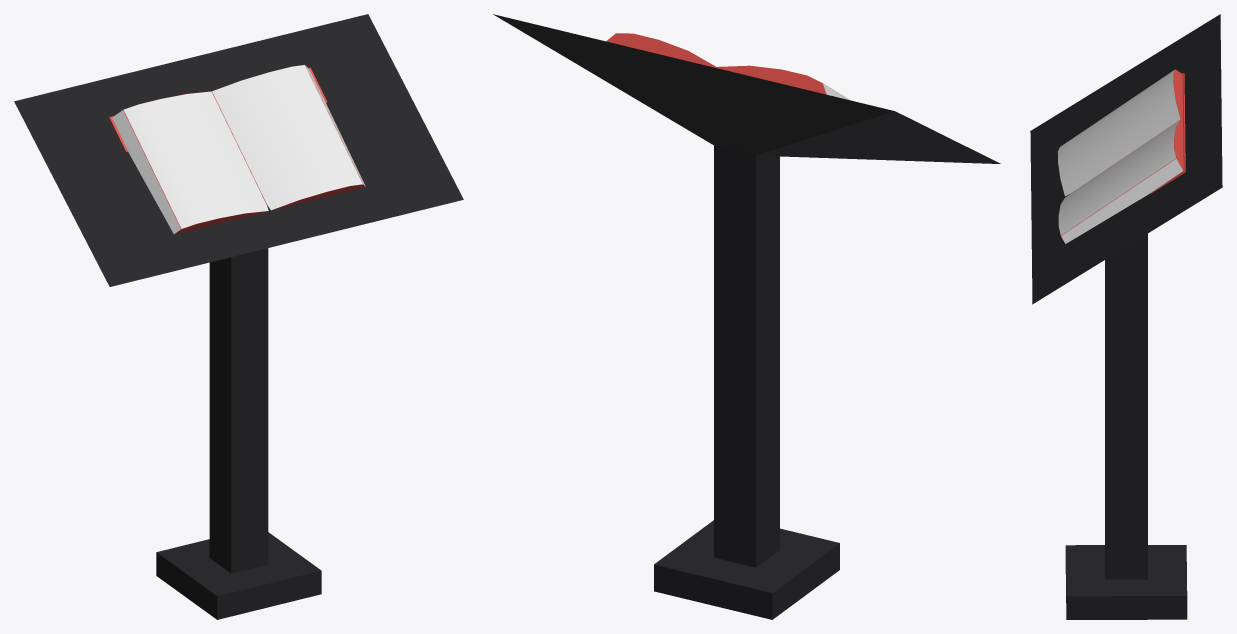
File: 80 - leggio.glb
3 renders of one model, left to right at view 1: azimuth 30°, elevation 25°; view 2: azimuth 150°, elevation 25°; view 3: azimuth 270°, elevation 25°, orthographic. The views are drawn at different scales.
Parts seen in each view (by area): view 1: Leggio; view 2: Leggio; view 3: Leggio.
Part boxes in pixels (box(x1,y1,x2,y2)): Leggio: box(14, 14, 463, 619); Leggio: box(493, 14, 1000, 619); Leggio: box(1030, 14, 1222, 619).
Bounding box in the file's own units: 0.7798 × 1.03 × 0.3639.
